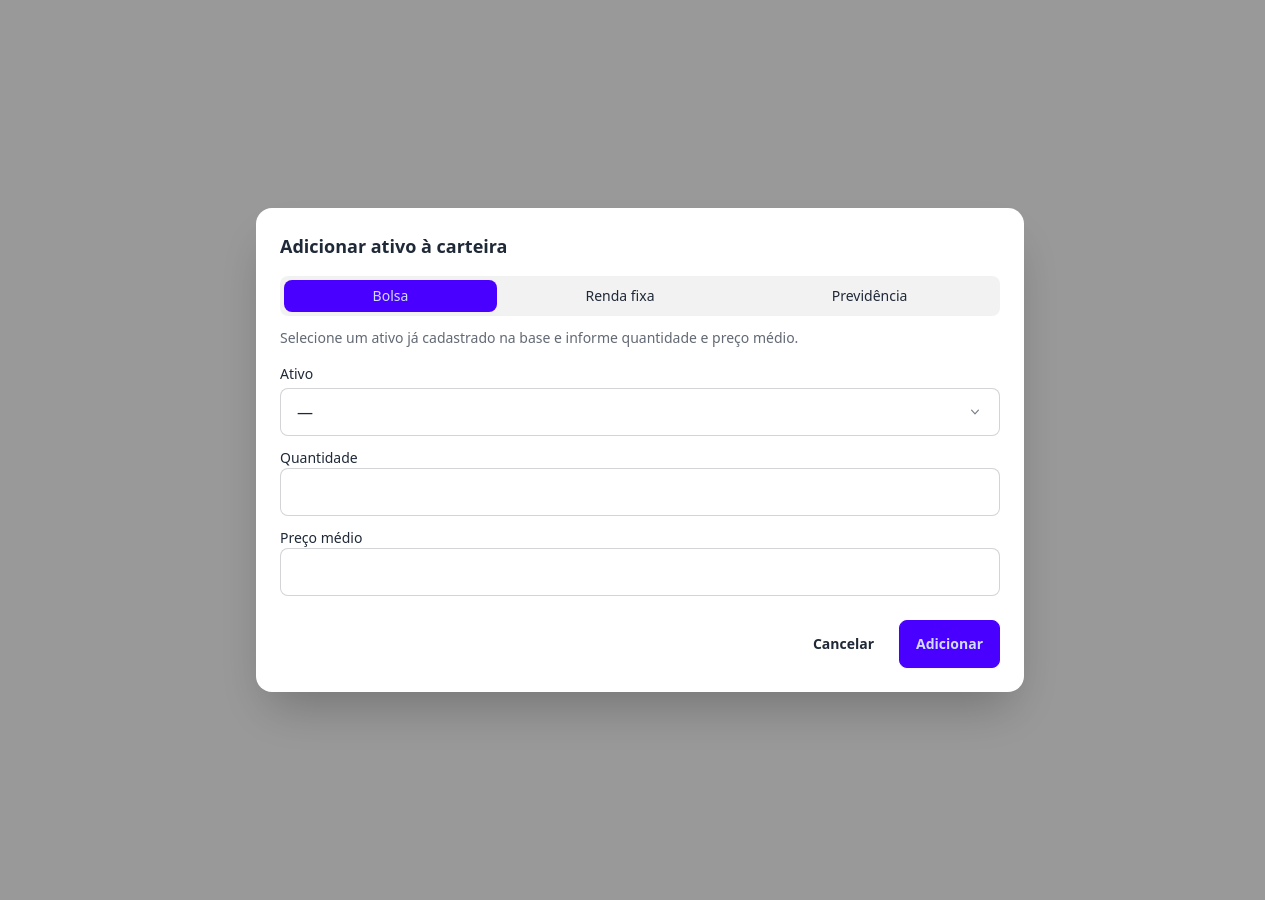
Test: PortfolioAddAssetModal › na aba Renda fixa mostra os campos do produto e os valores da carteira
Click the tab "Renda fixa".
click(620, 296)  # box [497,280,743,312]
(page scrolled)
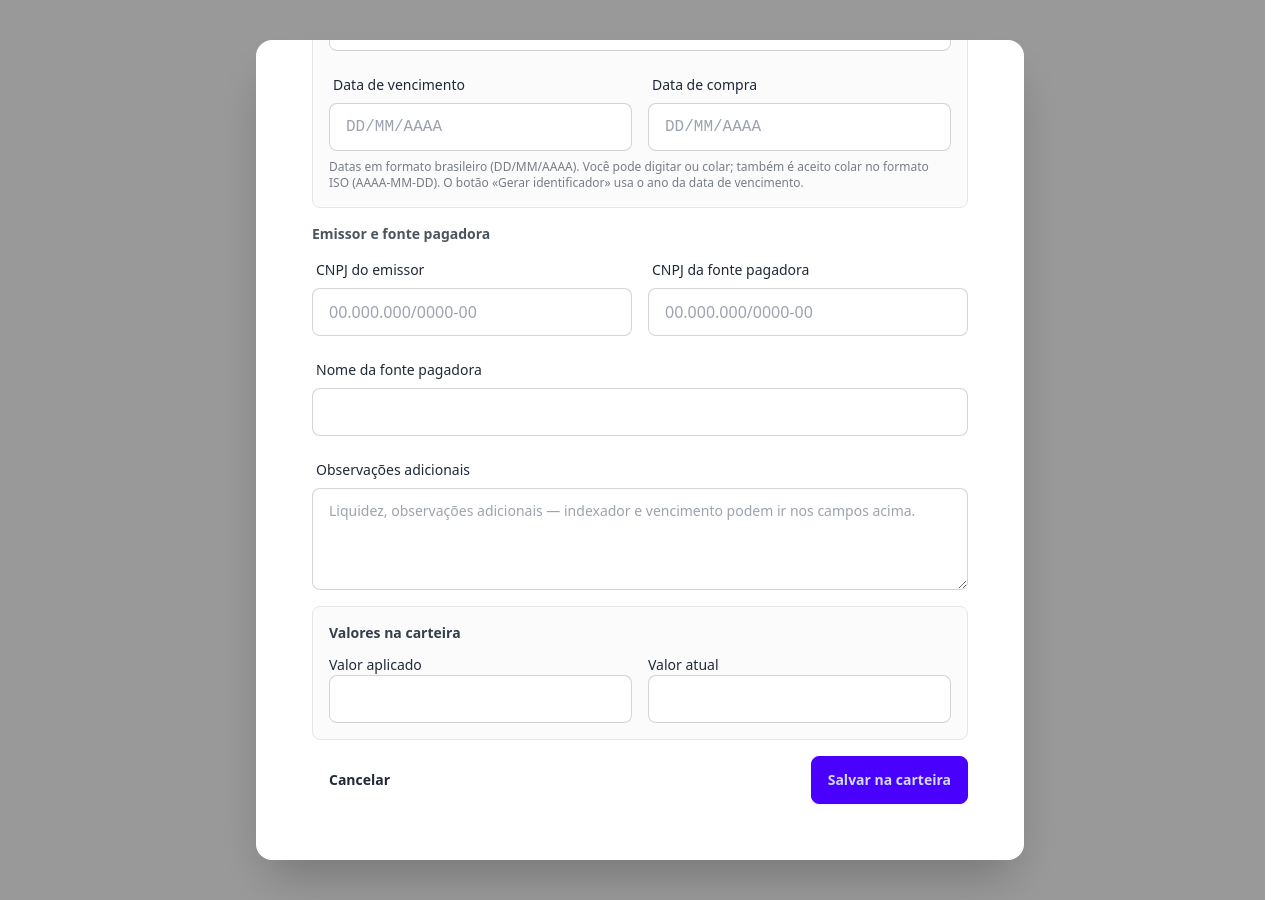
Expected: the text "Valor aplicado" is shown, [329,655,422,674]
Expected: the text "Valor atual" is shown, [648,655,718,674]
